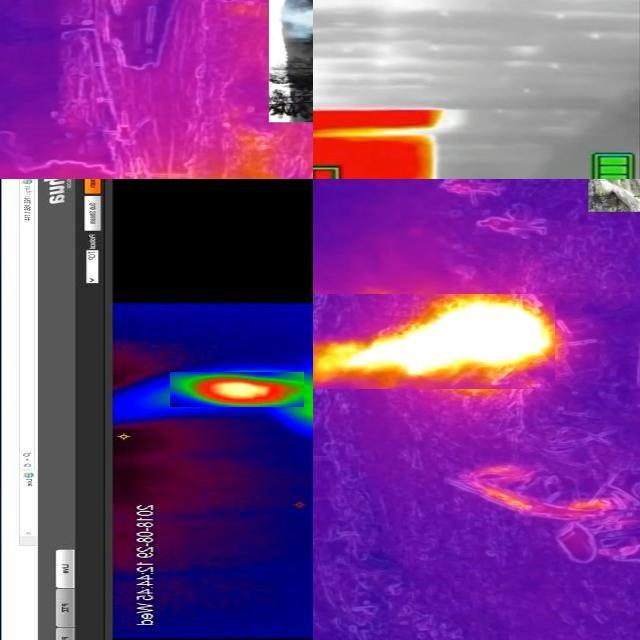fire: (314, 295, 555, 390), (170, 373, 304, 408)
